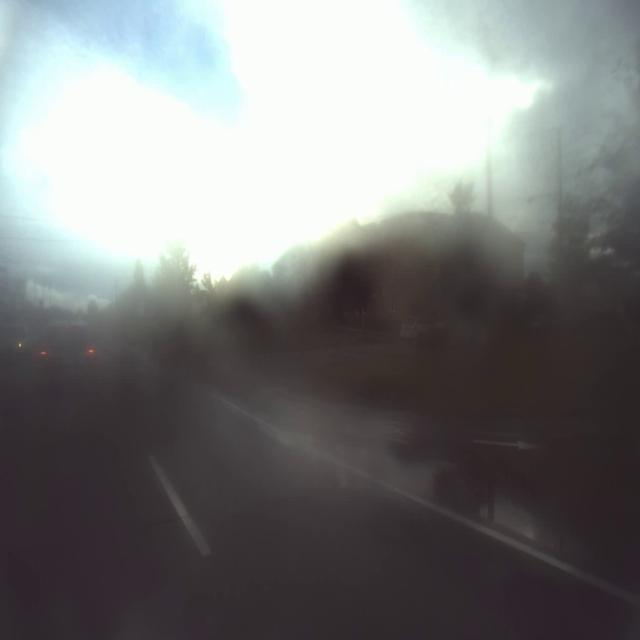car: (32, 310, 100, 396)
